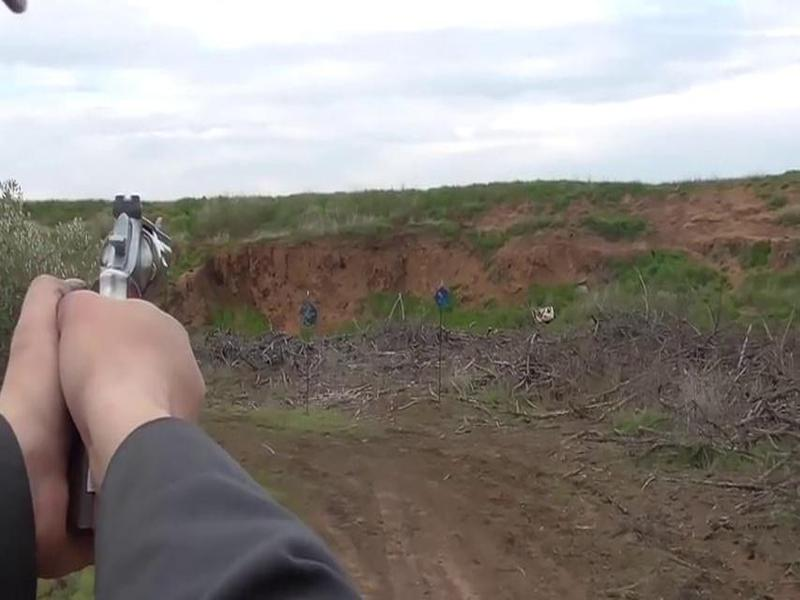Revolver: (74, 180, 183, 323)
